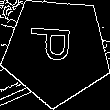P_E: (30, 30, 82, 71)
